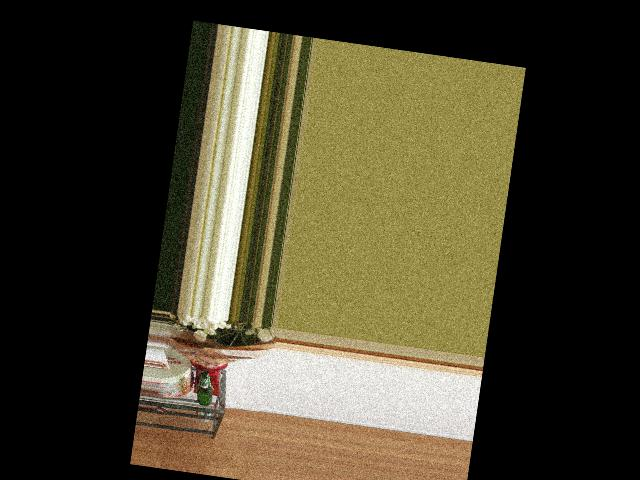beer: (193, 370, 215, 407)
